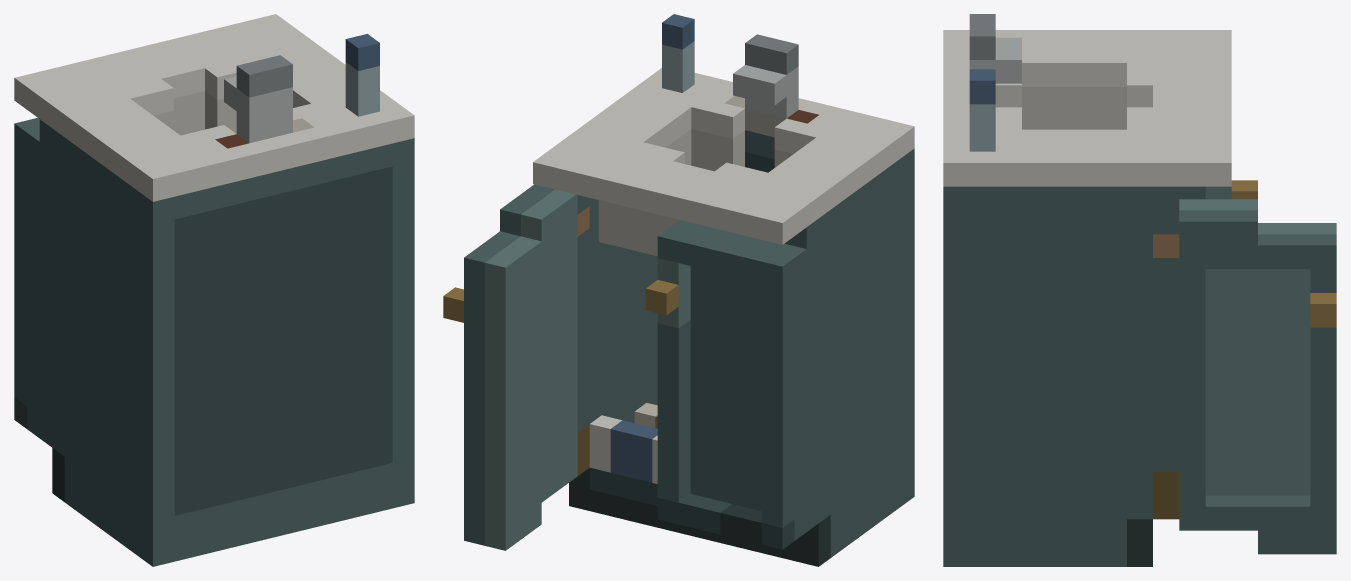
The model's file is Claude_bathroom_sink.glb.
3 renders of one model, left to right at view 1: azimuth 30°, elevation 25°; view 2: azimuth 150°, elevation 25°; view 3: azimuth 270°, elevation 25°, orthographic. The views are drawn at different scales.
Parts seen in each view (by area): view 1: Claude_bathroom_sink; view 2: Claude_bathroom_sink; view 3: Claude_bathroom_sink.
Boxes of the visible parts, bbox=[...] form: Claude_bathroom_sink: bbox=[14, 14, 414, 566]; Claude_bathroom_sink: bbox=[443, 14, 914, 566]; Claude_bathroom_sink: bbox=[943, 14, 1336, 566].
Bounding box in the file's own units: 0.7 × 1 × 0.75.
